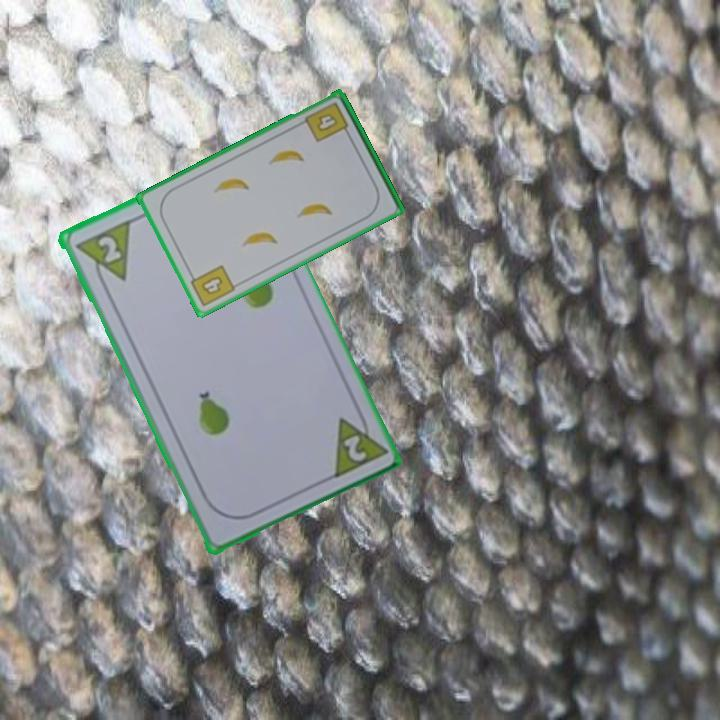2p: (327, 403, 388, 482), (93, 231, 124, 266)
4b: (185, 261, 238, 310), (301, 98, 353, 145)
